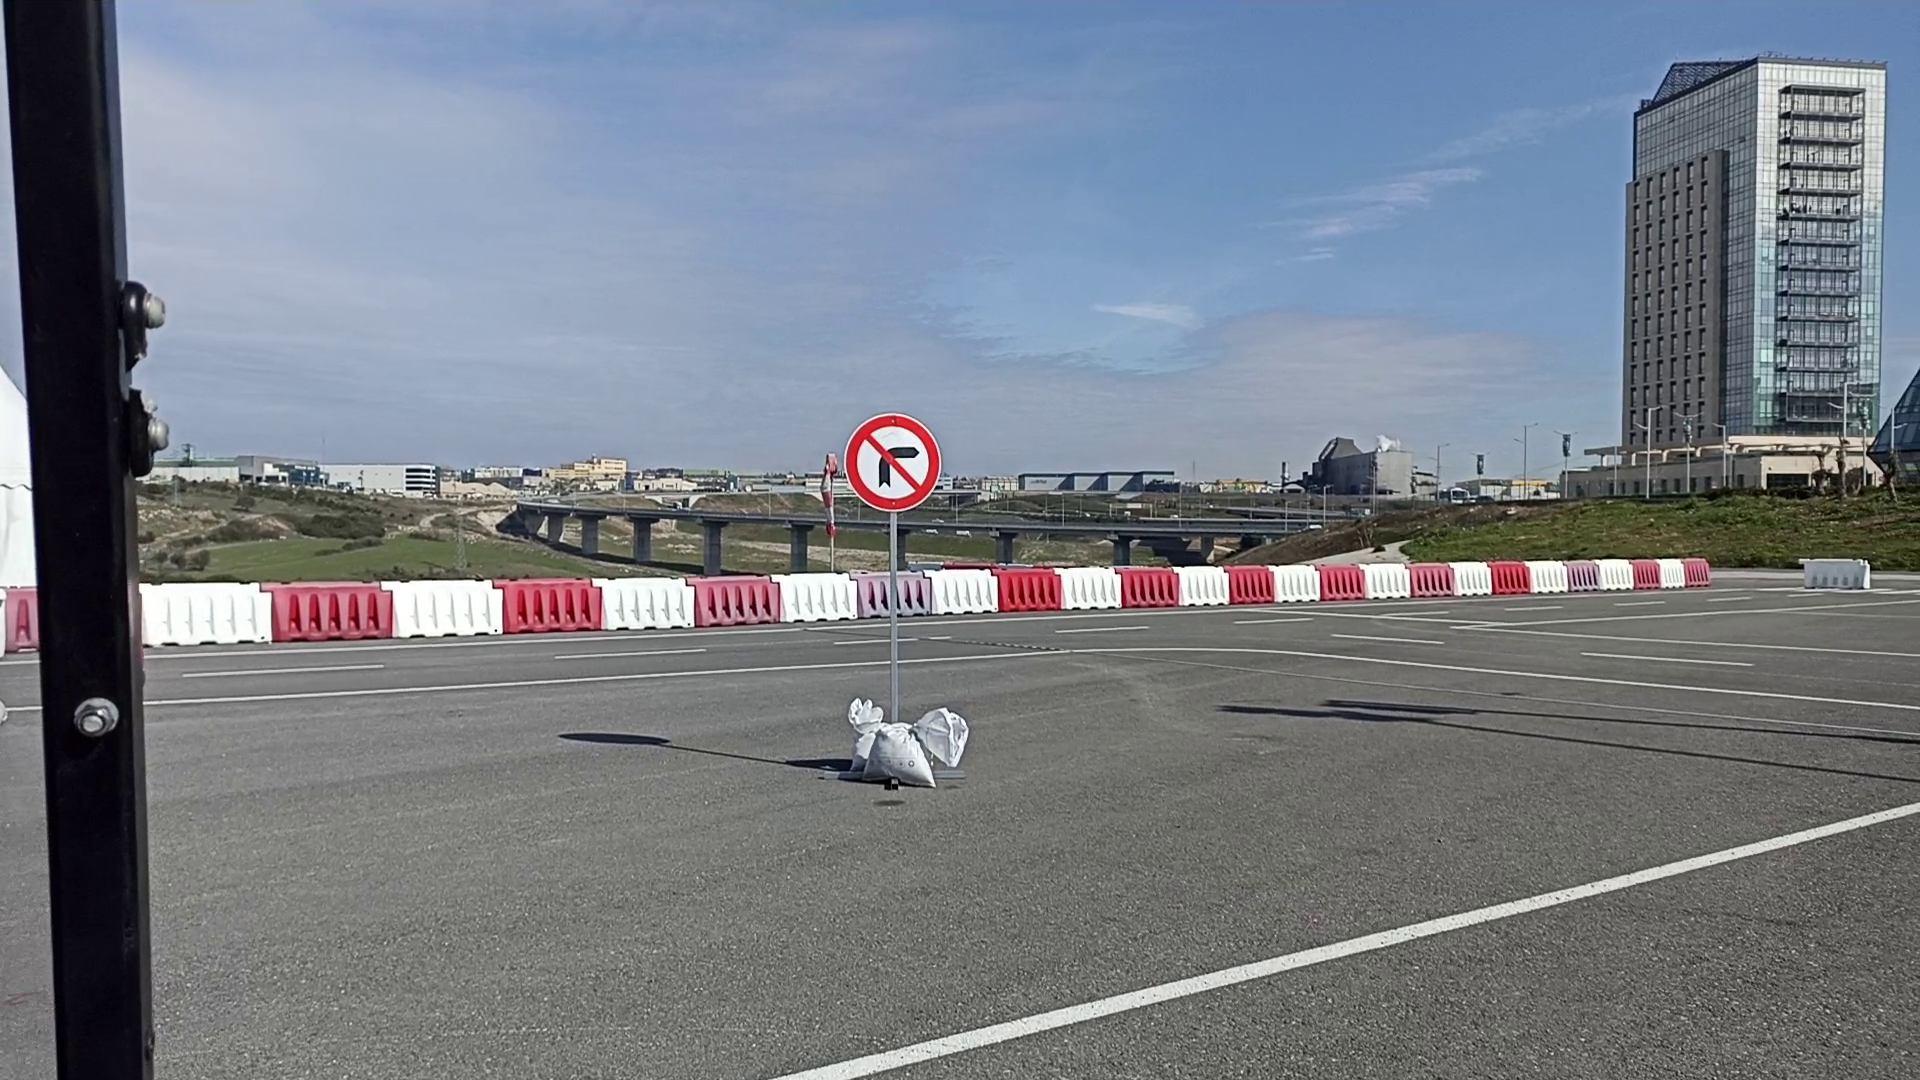noleftturn: (843, 411, 944, 516)
